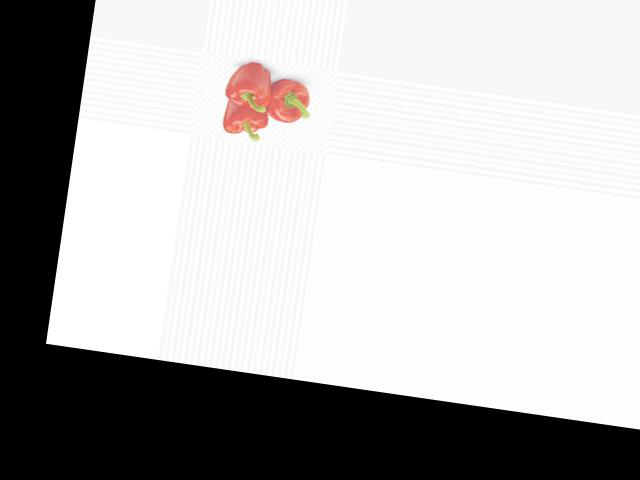bell_pepper: (259, 72, 317, 131)
